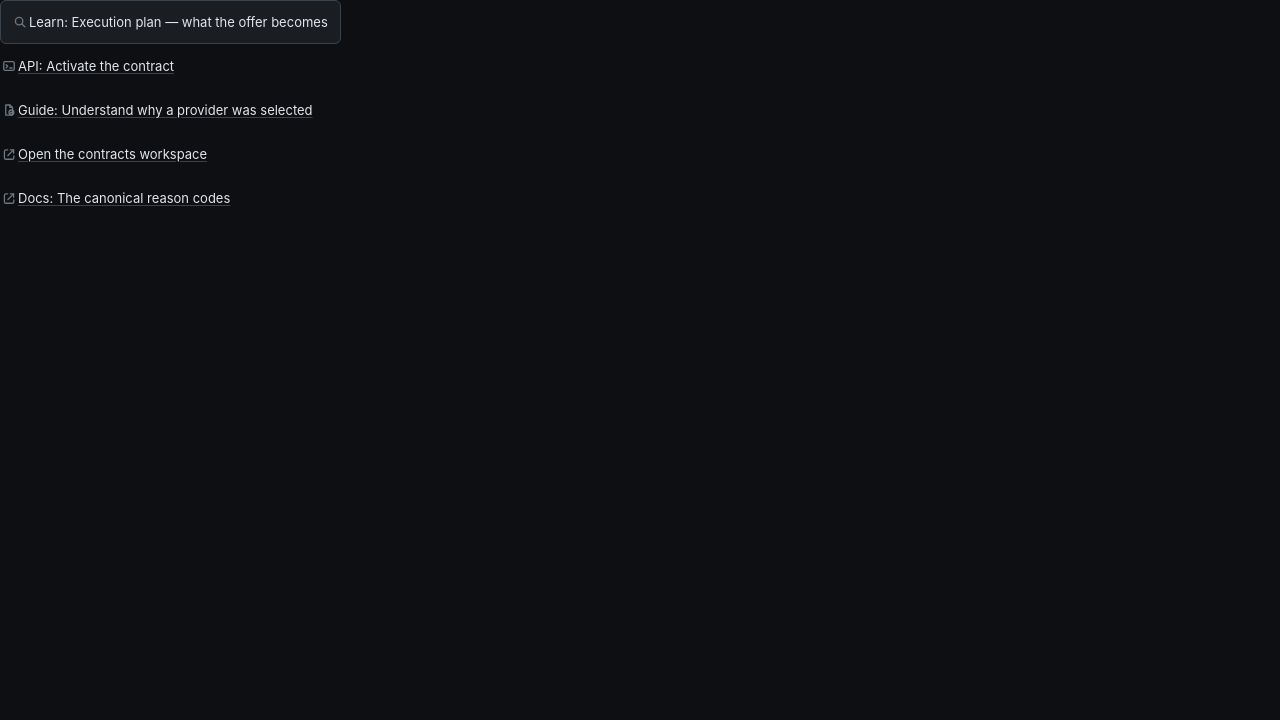
Scenario: learning primitives › NextStep renders every LearningLink kind with its kind-aware label and href
Click the button "Learn: Execution plan — what the offer becomes": [170, 22] box [0,0,341,44]
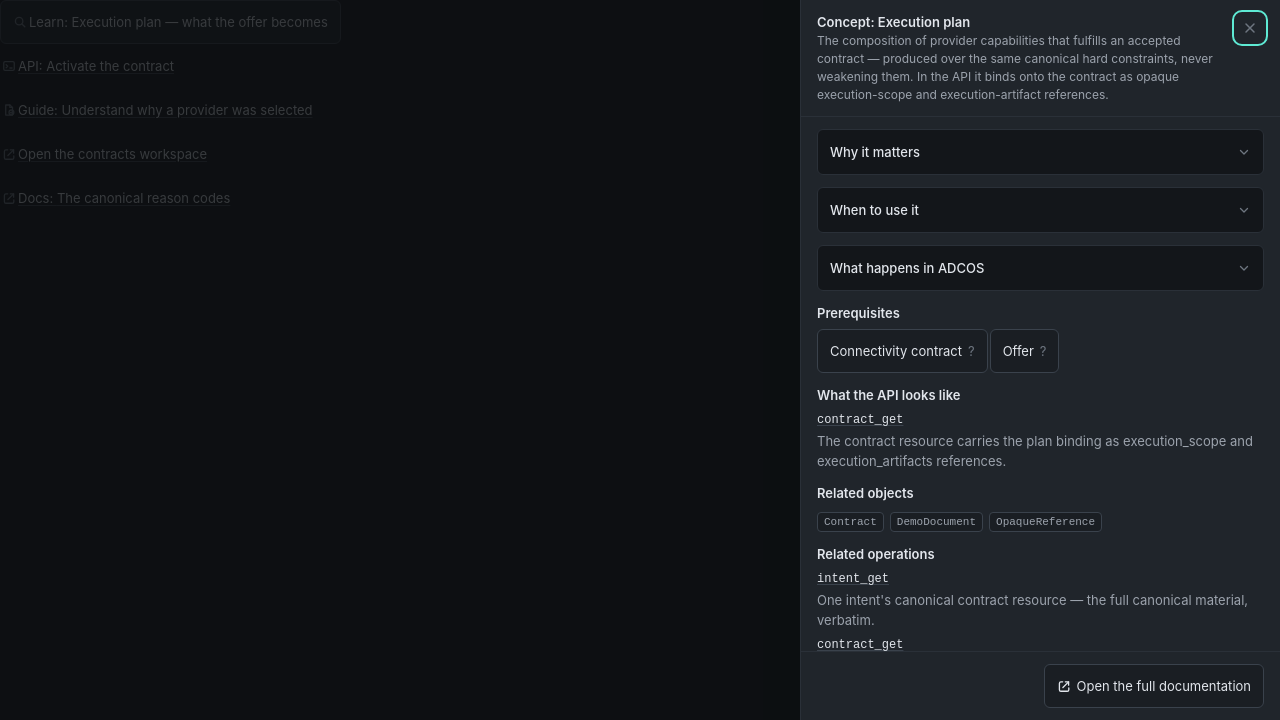
expect the dialog "Concept: Execution plan" is shown: met, box [800,0,1279,719]
